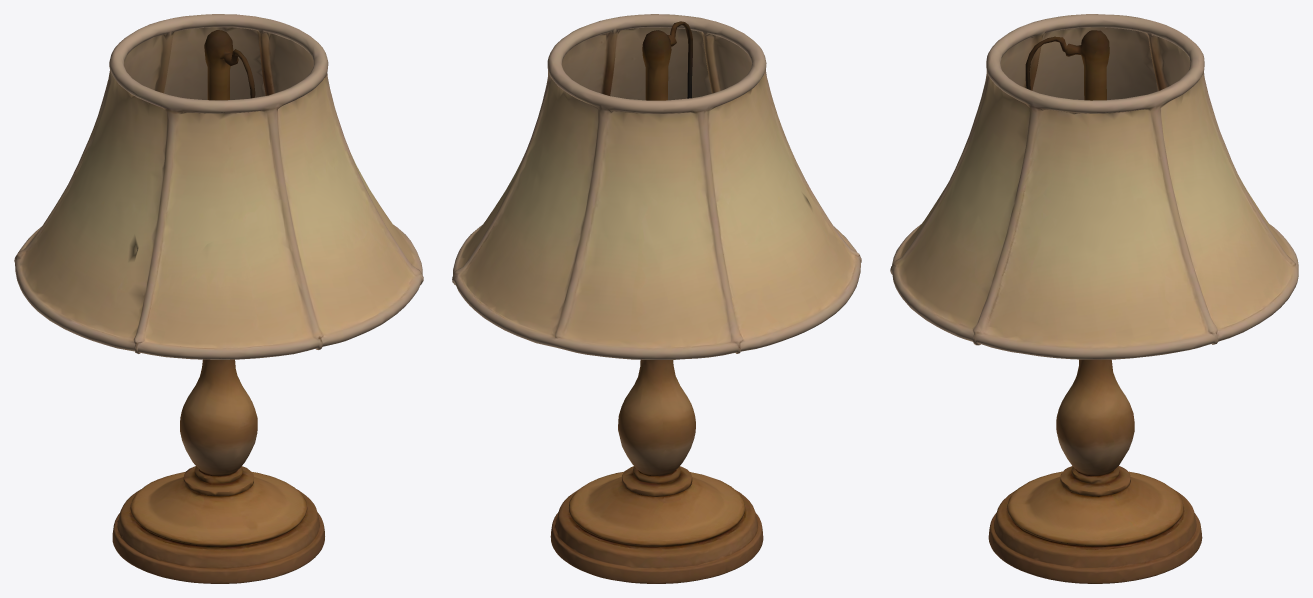
File: lamp.glb
3 renders of one model, left to right at view 1: azimuth 30°, elevation 25°; view 2: azimuth 150°, elevation 25°; view 3: azimuth 270°, elevation 25°, orthographic.
Visible parts, largest first — view 1: tripo_node_32b45628-2fa6-4e19-9d0e-1f539bc7f3cb; view 2: tripo_node_32b45628-2fa6-4e19-9d0e-1f539bc7f3cb; view 3: tripo_node_32b45628-2fa6-4e19-9d0e-1f539bc7f3cb.
Part boxes in pixels (x1,y1,x2,y2): tripo_node_32b45628-2fa6-4e19-9d0e-1f539bc7f3cb: [14, 14, 423, 583]; tripo_node_32b45628-2fa6-4e19-9d0e-1f539bc7f3cb: [452, 14, 861, 583]; tripo_node_32b45628-2fa6-4e19-9d0e-1f539bc7f3cb: [890, 14, 1298, 583].
Size of the model in its own units: 0.7218 by 1 by 0.7276.
Materials: 1 (1 with a texture image).
